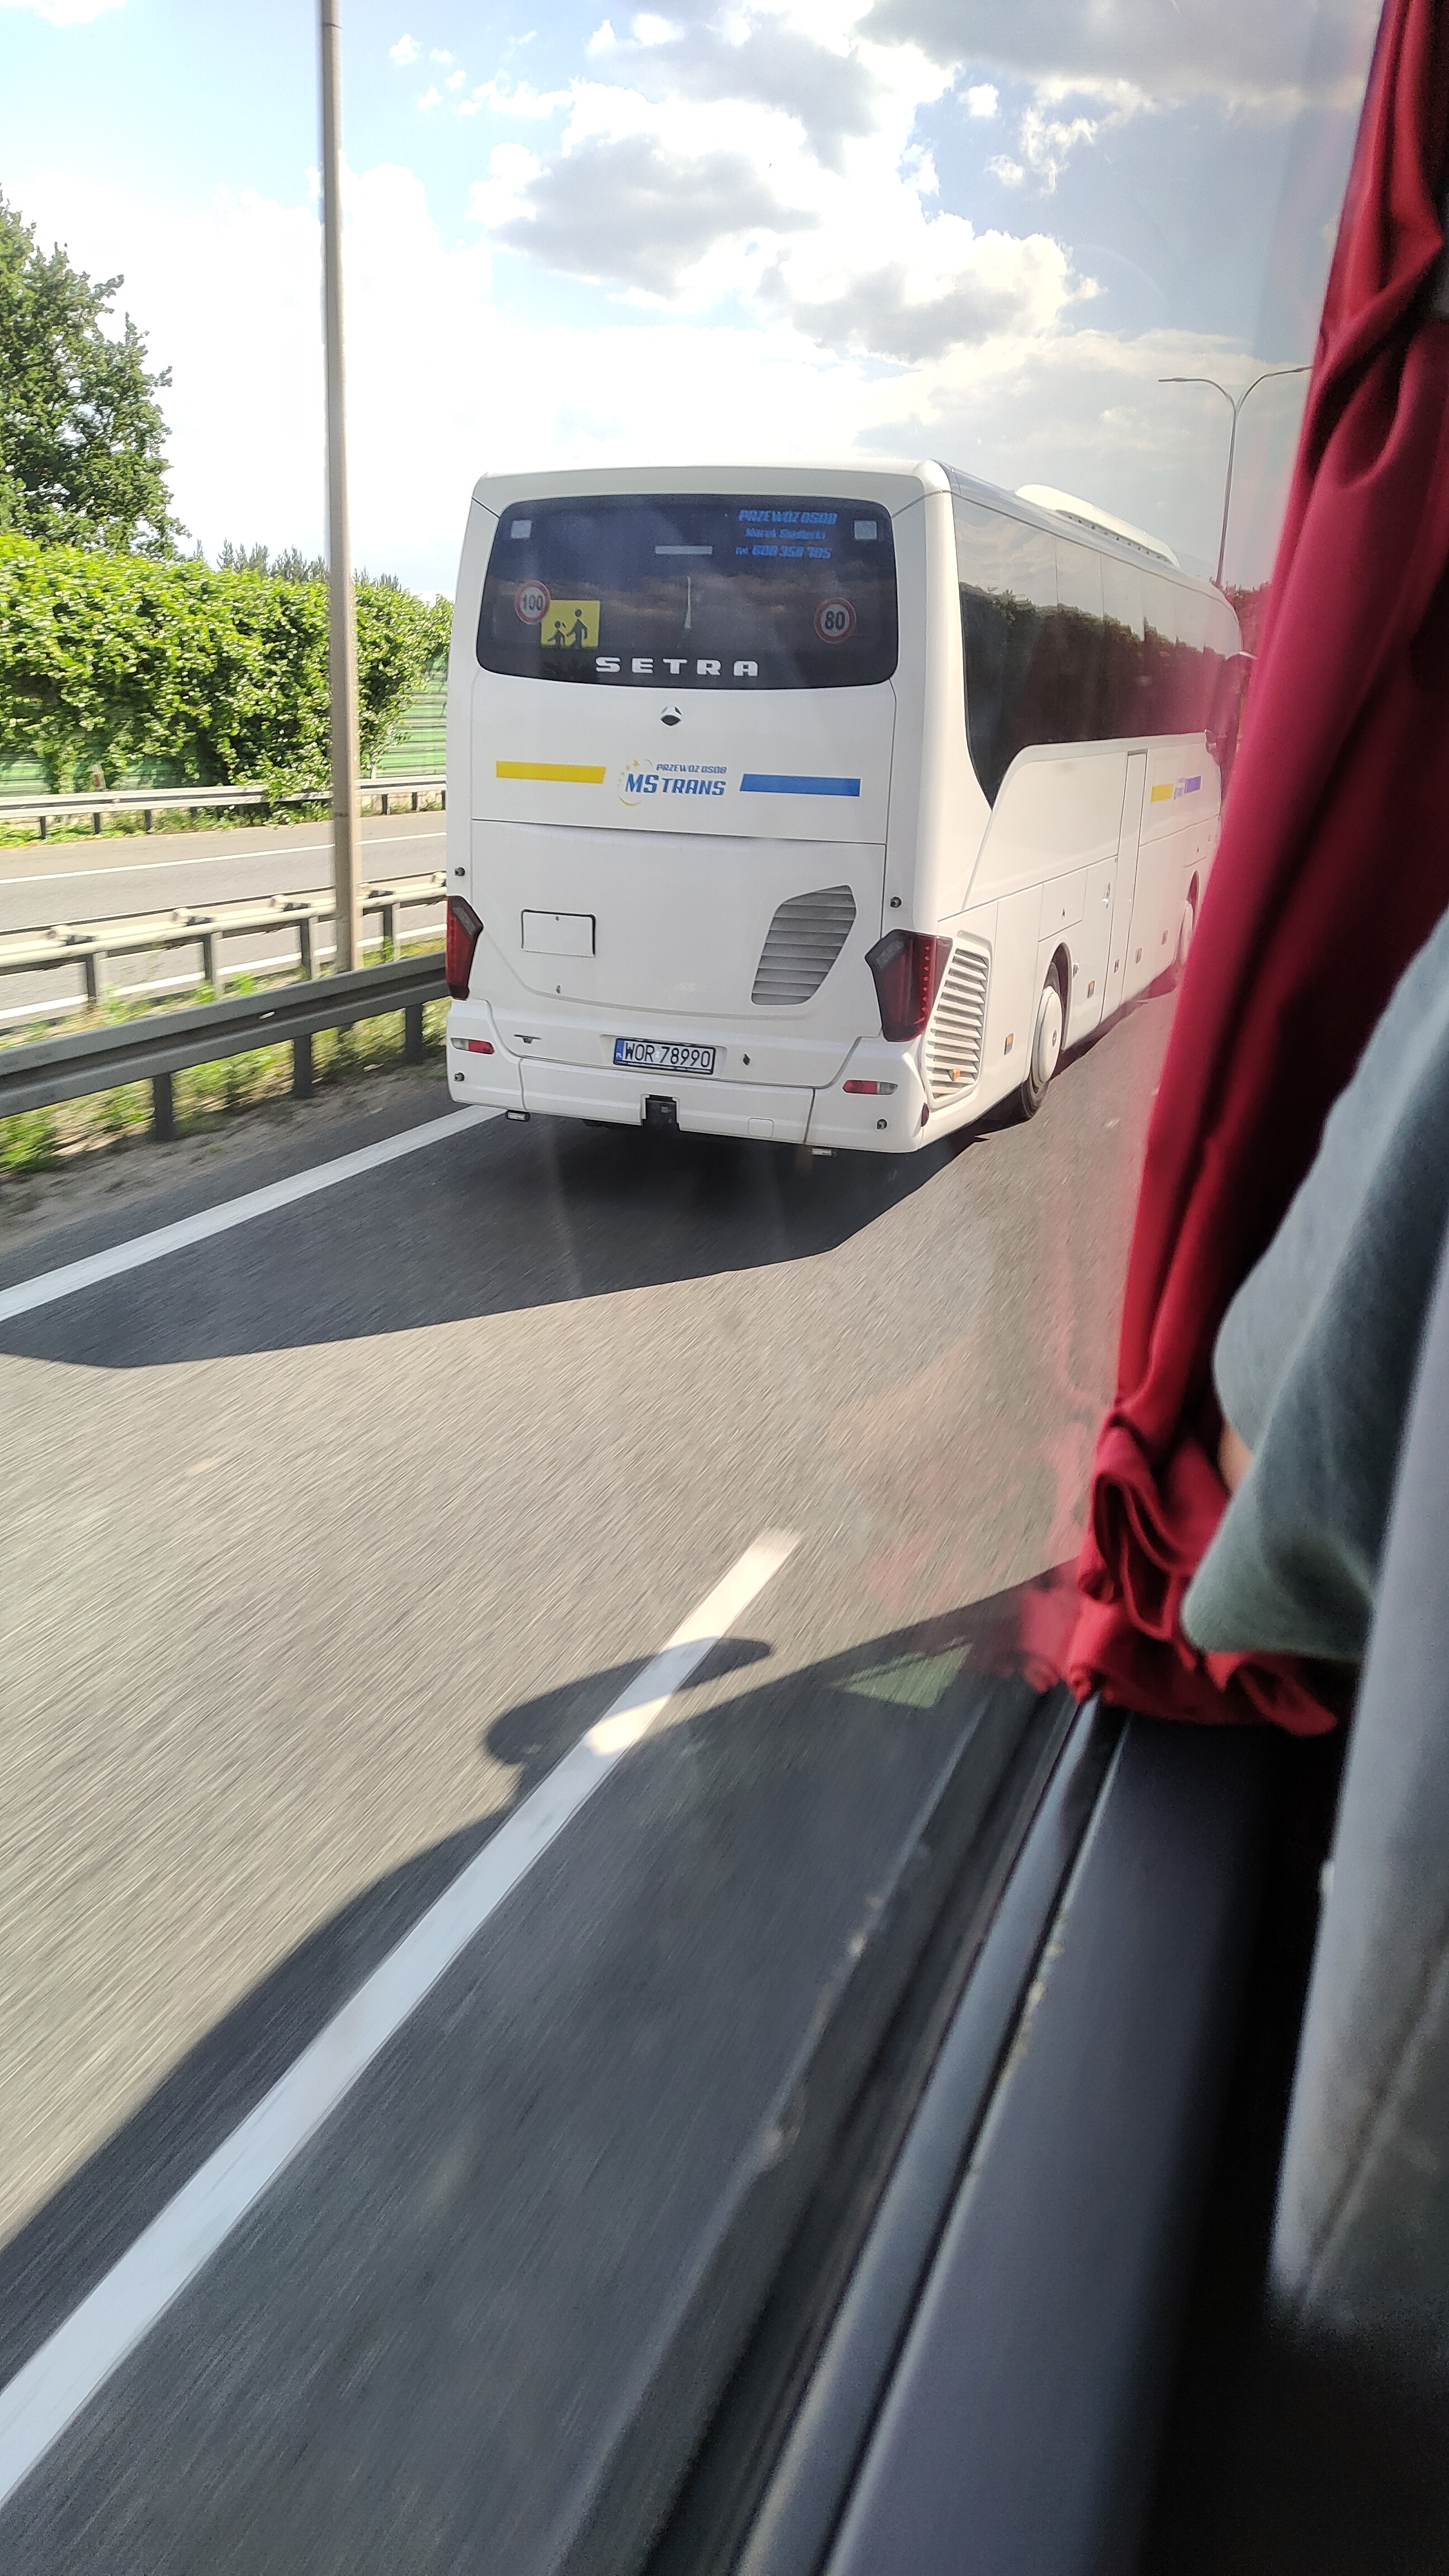number_plate: (613, 1038, 717, 1076)
